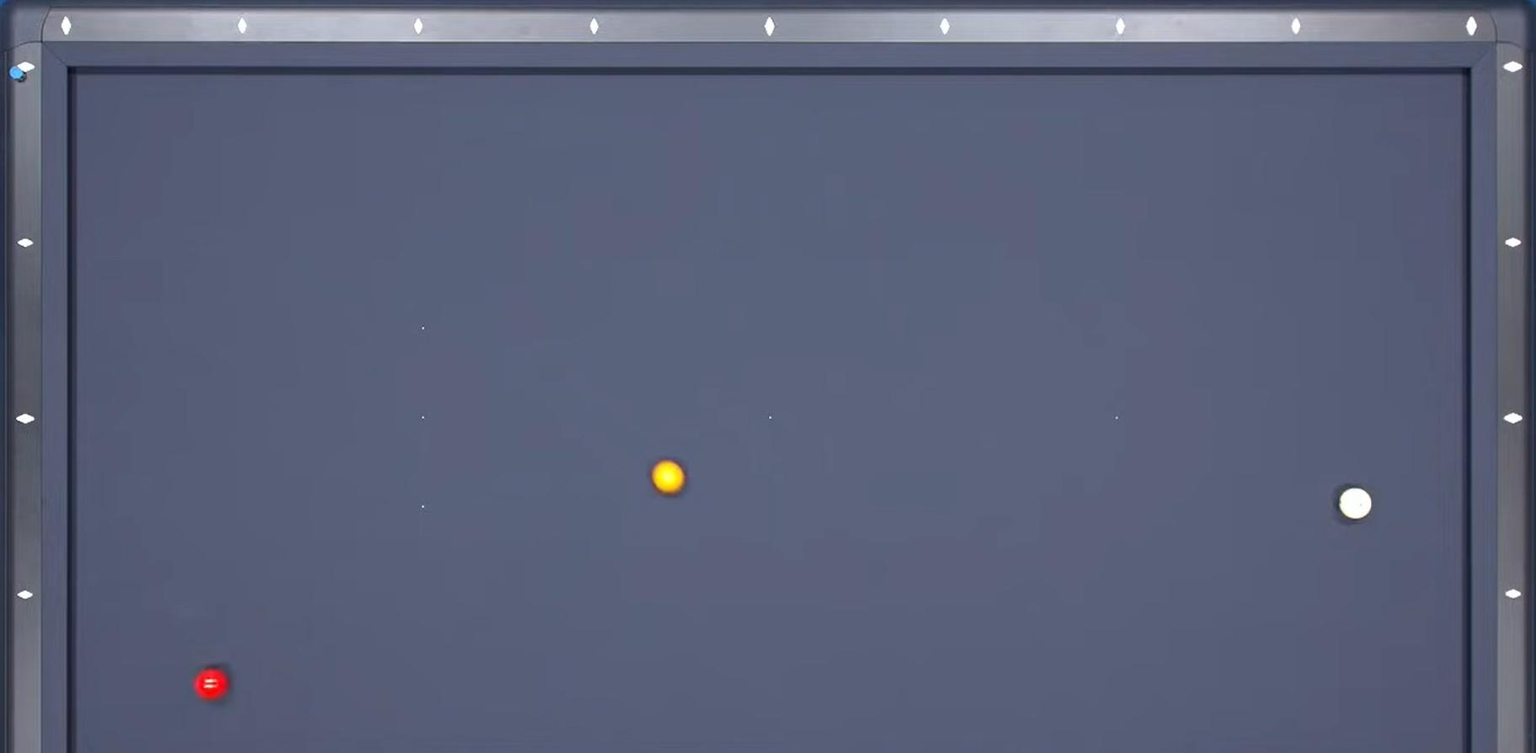red ball: (190, 663, 231, 704)
white ball: (1334, 483, 1377, 526)
yellow ball: (648, 456, 691, 500)
